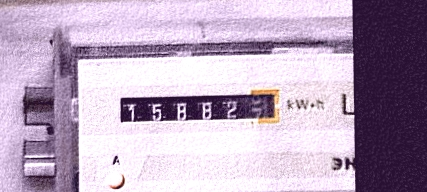1: (127, 103, 136, 121)
2: (226, 99, 238, 119)
5: (149, 102, 163, 121)
7: (250, 106, 262, 118)
8: (200, 99, 213, 121), (176, 101, 188, 121)
screen: (114, 87, 284, 130)
